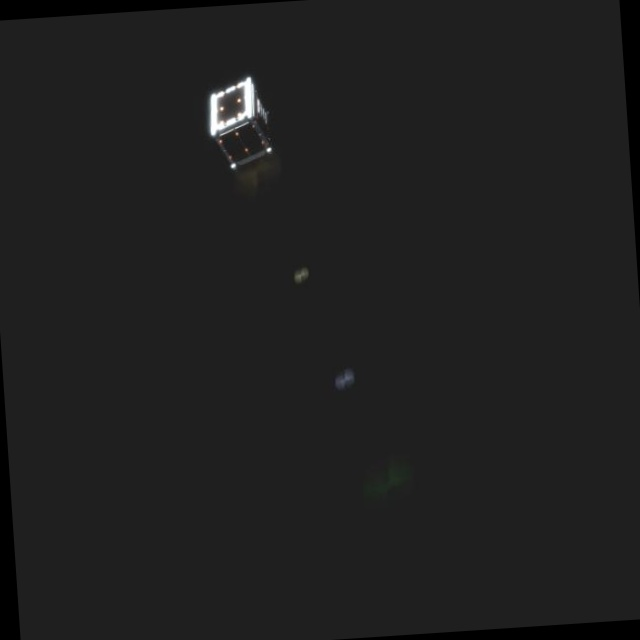satellite: (194, 73, 283, 179)
